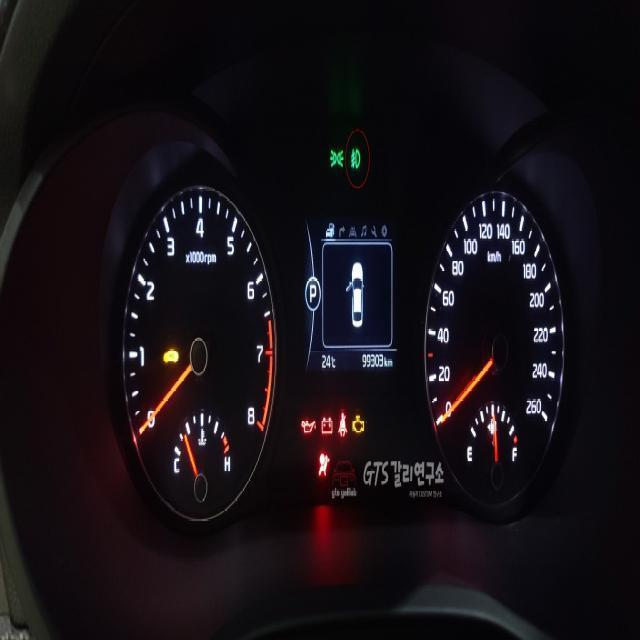FrontFogLight: (350, 147, 360, 169)
SideLamp: (328, 146, 344, 168)
